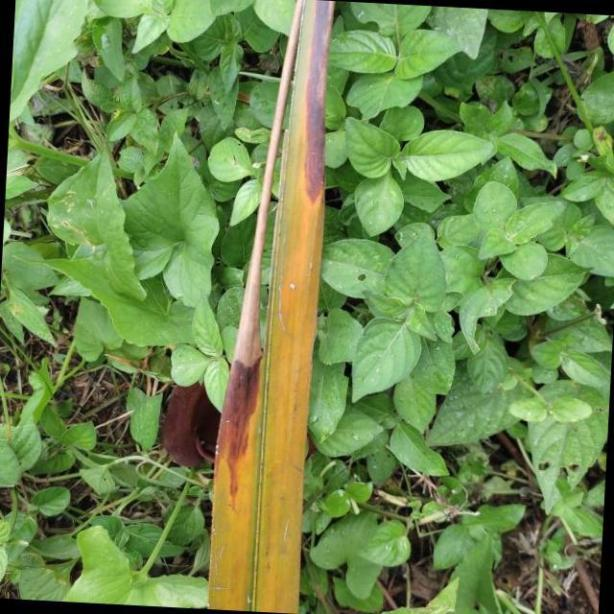Megnesium: (210, 0, 334, 614)
